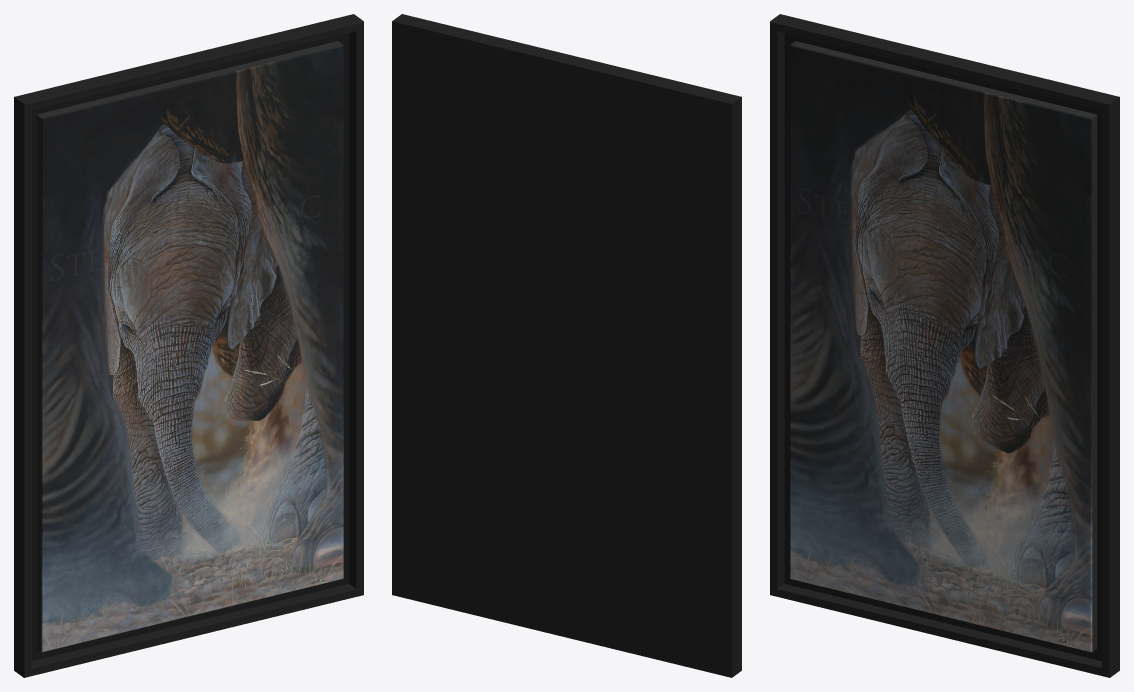
Rendered from tableau-elephanteau-realiste-grand-8c5a3cb0.glb.
The picture shows the model from 3 angles, left to right: view 1: azimuth 30°, elevation 25°; view 2: azimuth 150°, elevation 25°; view 3: azimuth 330°, elevation 25°; orthographic projection.
Parts seen in each view (by area): view 1: Painting; view 2: Painting; view 3: Painting.
Boxes of the visible parts, left/top/right/bottom form: Painting: left=14, top=14, right=363, bottom=677; Painting: left=392, top=14, right=741, bottom=677; Painting: left=770, top=14, right=1119, bottom=677.
Size of the model in its own units: 0.766 by 1.24 by 0.04.
Materials: 4 (2 with a texture image).
